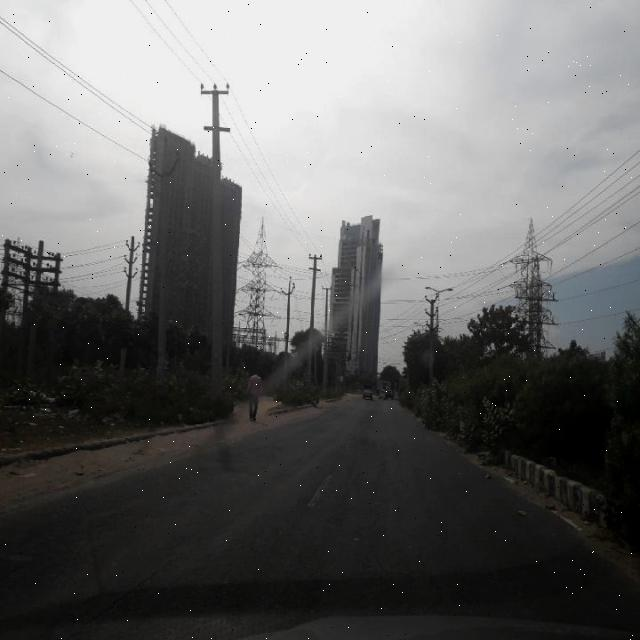D00: (72, 522, 207, 636)
D20: (262, 428, 468, 620), (0, 460, 213, 628)
D44: (299, 463, 334, 513)
